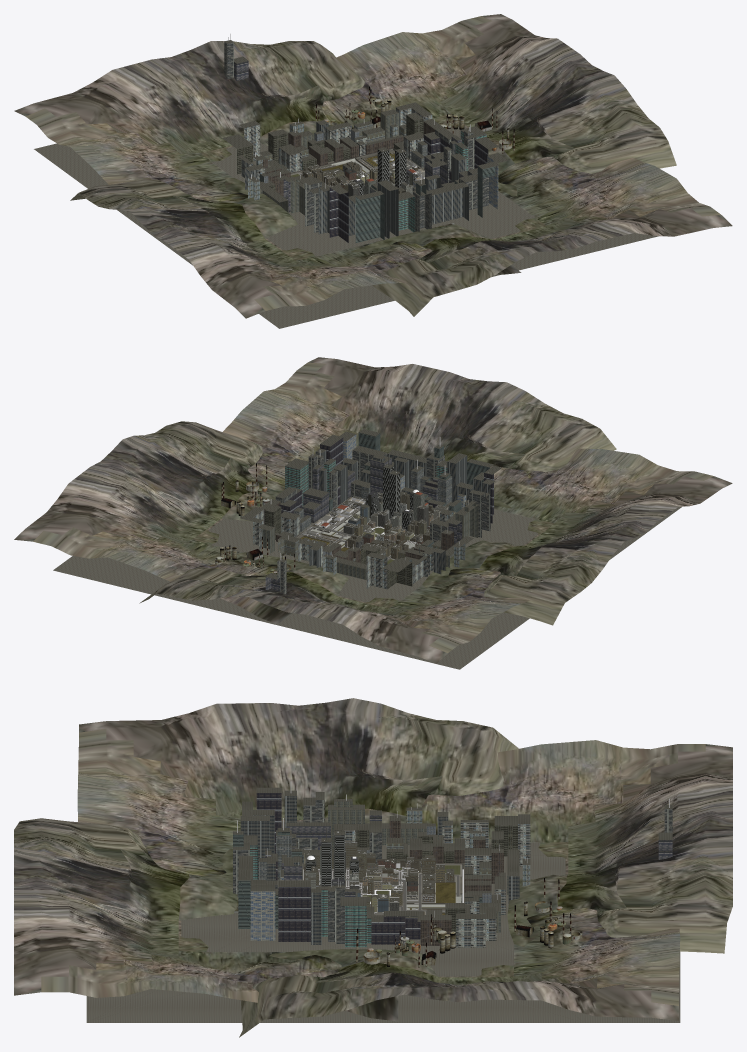
File: big_city.glb
3 renders of one model, top to bottom at view 1: azimuth 30°, elevation 25°; view 2: azimuth 150°, elevation 25°; view 3: azimuth 270°, elevation 25°, orthographic. The views are drawn at different scales.
Visible parts, largest first — view 1: Object_104, Object_97, Object_105, Object_86, Object_82, Object_79, Object_76, Object_80, Object_101, Object_83, Object_81, Object_77 (+3 smaller); view 2: Object_104, Object_97, Object_105, Object_86, Object_82, Object_79, Object_85, Object_101, Object_77, Object_35, Object_76, Object_80 (+5 smaller); view 3: Object_104, Object_97, Object_105, Object_80, Object_79, Object_101, Object_86, Object_82, Object_83, Object_78, Object_81, Object_87 (+7 smaller).
Part boxes in pixels (x1=…): Object_104: x1=14, y1=14, x2=732, y2=318; Object_97: x1=34, y1=125, x2=658, y2=328; Object_105: x1=222, y1=40, x2=508, y2=203; Object_86: x1=245, y1=122, x2=477, y2=238; Object_82: x1=224, y1=42, x2=488, y2=232; Object_79: x1=241, y1=107, x2=432, y2=186; Object_76: x1=260, y1=137, x2=495, y2=242; Object_80: x1=329, y1=135, x2=488, y2=242; Object_101: x1=316, y1=86, x2=514, y2=153; Object_83: x1=262, y1=121, x2=434, y2=196; Object_81: x1=237, y1=115, x2=423, y2=190; Object_77: x1=260, y1=113, x2=398, y2=215; Object_104: x1=14, y1=357, x2=732, y2=663; Object_97: x1=53, y1=496, x2=681, y2=669; Object_105: x1=240, y1=429, x2=501, y2=579; Object_86: x1=309, y1=450, x2=490, y2=574; Object_82: x1=275, y1=450, x2=490, y2=594; Object_79: x1=253, y1=509, x2=453, y2=589; Object_85: x1=265, y1=458, x2=461, y2=591; Object_101: x1=215, y1=463, x2=295, y2=573; Object_77: x1=262, y1=502, x2=478, y2=579; Object_35: x1=365, y1=464, x2=421, y2=530; Object_76: x1=329, y1=432, x2=489, y2=574; Object_80: x1=279, y1=437, x2=493, y2=523; Object_104: x1=14, y1=698, x2=732, y2=1037; Object_97: x1=86, y1=821, x2=680, y2=1022; Object_105: x1=233, y1=787, x2=672, y2=921; Object_80: x1=256, y1=793, x2=420, y2=944; Object_79: x1=343, y1=822, x2=530, y2=947; Object_101: x1=356, y1=878, x2=582, y2=967; Object_86: x1=240, y1=796, x2=519, y2=944; Object_82: x1=233, y1=800, x2=672, y2=943; Object_83: x1=389, y1=821, x2=503, y2=945; Object_78: x1=250, y1=845, x2=371, y2=947; Object_81: x1=334, y1=825, x2=517, y2=938; Object_87: x1=250, y1=877, x2=283, y2=940.
Size of the model in its own units: 2989 by 434 by 3062.
99 materials, 98 textured.
